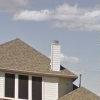Chimney: (44, 35, 67, 75)
